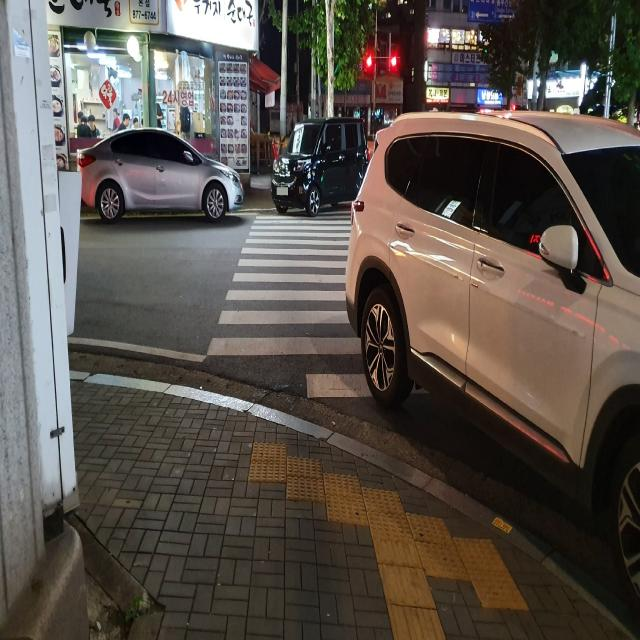횡단보도: (205, 212, 431, 402)
